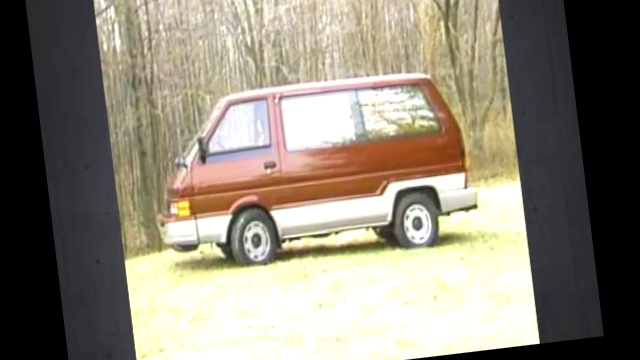van: (143, 62, 484, 272)
